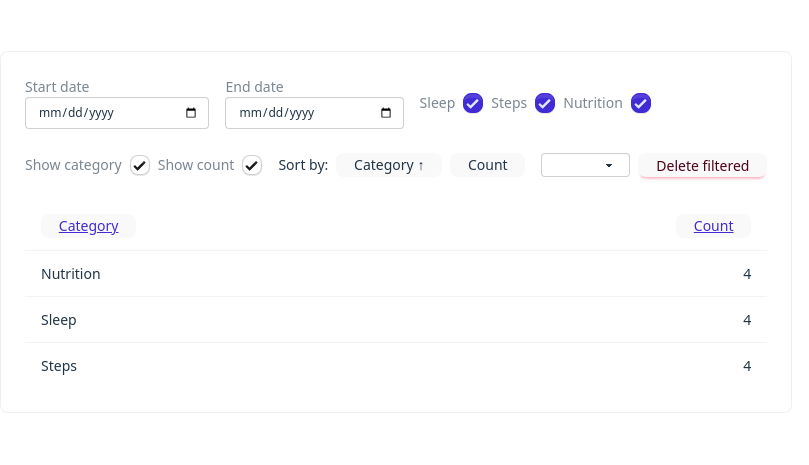
Test: Aggregated summaries › SummaryFilters allows deleting data for a category and date range
Step 1. Type "2025-03-01" into the date field named "start date" → (117, 113), box [25,97,210,129]
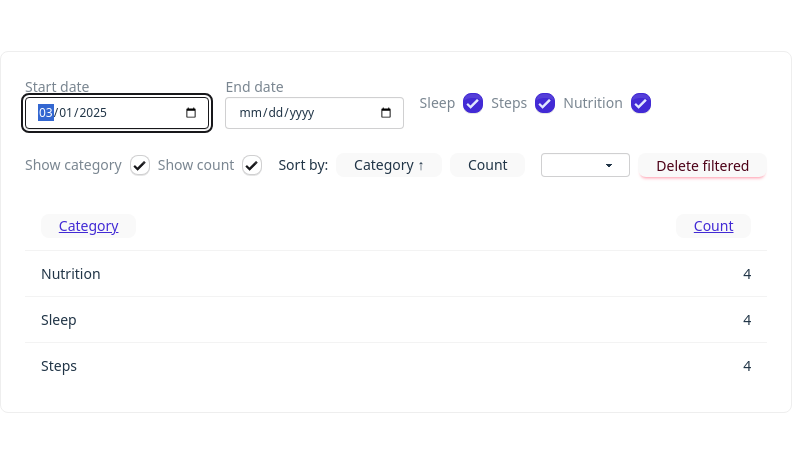
Step 2. Type "2025-03-31" into the date field named "end date" → (315, 113), box [226,97,404,129]
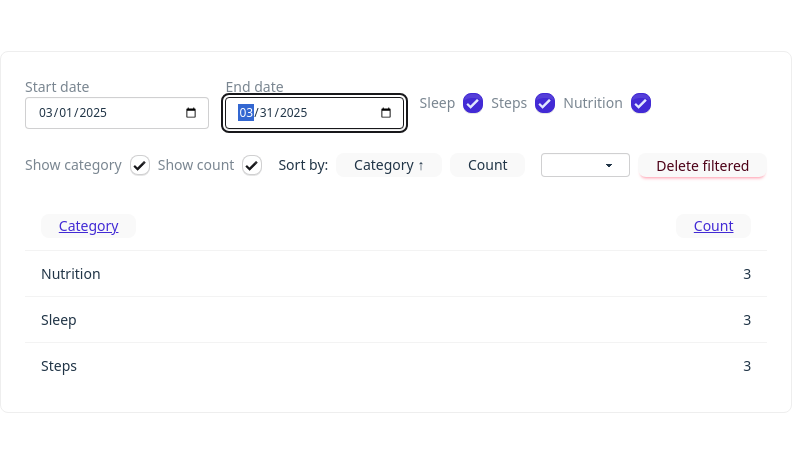
Step 3. Select "Sleep" in the dropdown named "delete category" → (586, 165), box [542,153,630,177]
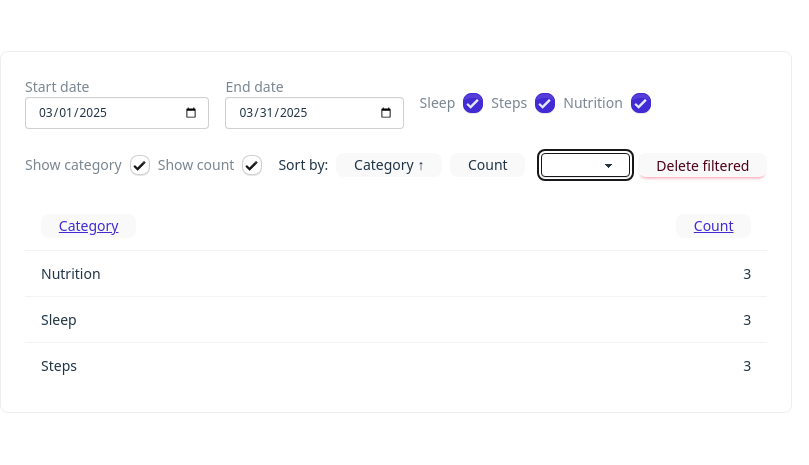
Step 4. Click the button "Delete filtered" → (703, 165), box [638,153,767,177]
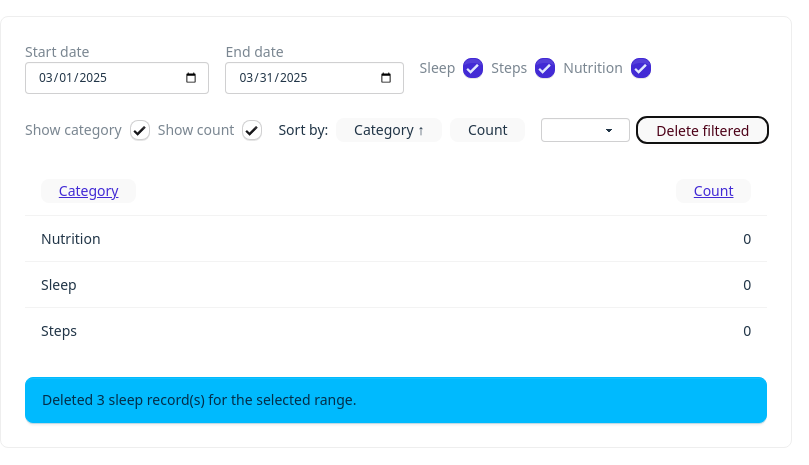
expect the row "sleep 0" is shown: met, box [25,262,767,308]
expect the message shows "Deleted 3 sleep record": met, box [42,390,356,409]
